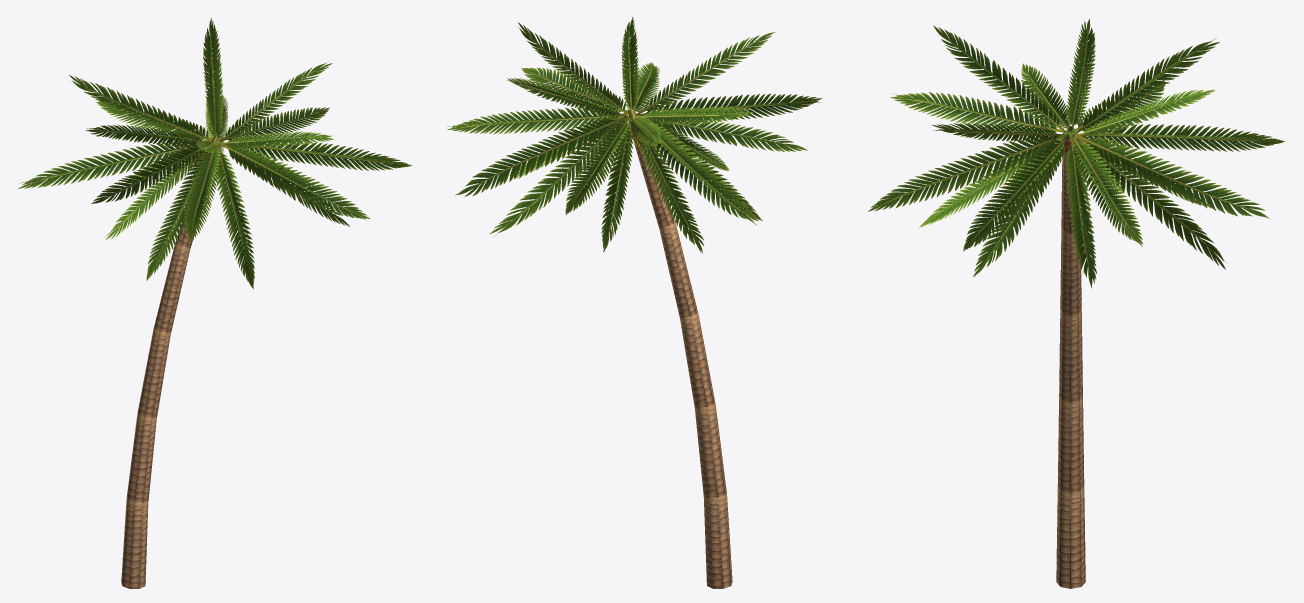
The model's file is palm.glb.
3 views of the same model, side by side, from view 1: azimuth 30°, elevation 25°; view 2: azimuth 150°, elevation 25°; view 3: azimuth 270°, elevation 25° (orthographic). The views are drawn at different scales.
Visible parts, largest first — view 1: GEO-palm; view 2: GEO-palm; view 3: GEO-palm.
Part boxes in pixels (x1=…): GEO-palm: x1=18, y1=18, x2=412, y2=588; GEO-palm: x1=447, y1=17, x2=822, y2=588; GEO-palm: x1=868, y1=19, x2=1285, y2=588.
Size of the model in its own units: 5.9 by 8.68 by 5.86.
Materials: 2 (2 with a texture image).
